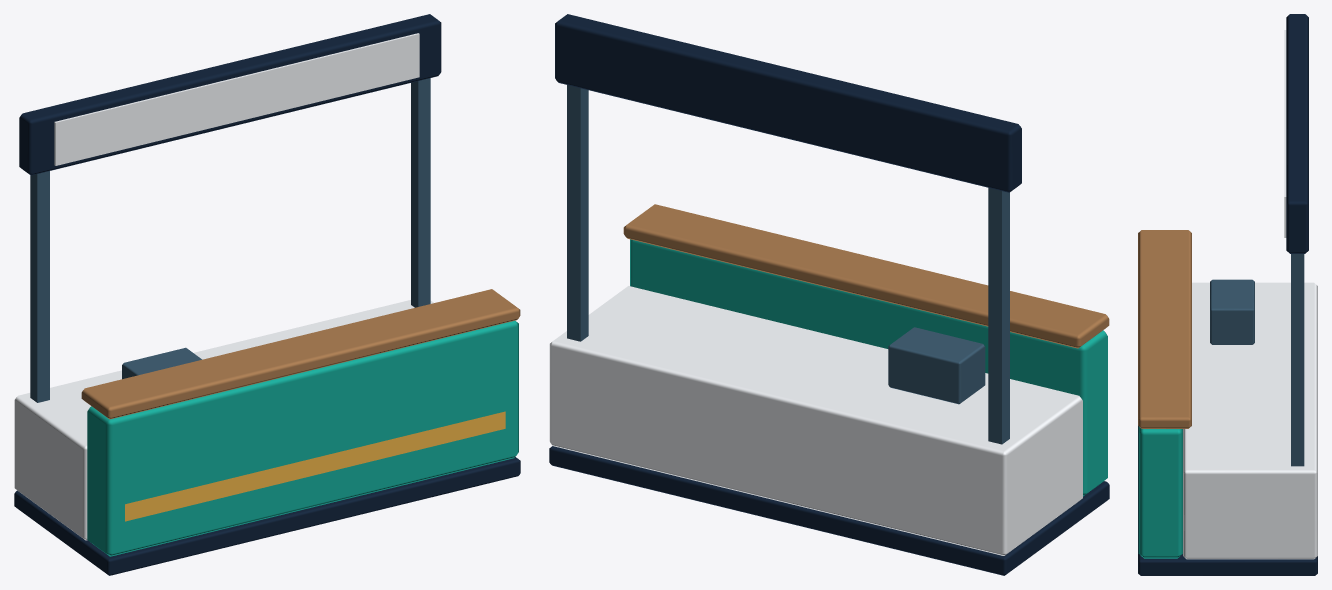
File: CM_Interior_ServiceDesk.fbx
3 views of the same model, side by side, from view 1: azimuth 30°, elevation 25°; view 2: azimuth 150°, elevation 25°; view 3: azimuth 270°, elevation 25° (orthographic). The views are drawn at different scales.
Parts seen in each view (by area): view 1: Body, Face; view 2: Body; view 3: Body, Face.
Boxes of the visible parts, <box> form: Body: <box>14,14,520,575</box>; Face: <box>54,33,419,165</box>; Body: <box>549,14,1109,575</box>; Body: <box>1138,14,1317,575</box>; Face: <box>1284,30,1286,237</box>.
Size of the model in its own units: 10 by 4 by 9.2.
1 material, 1 textured.
